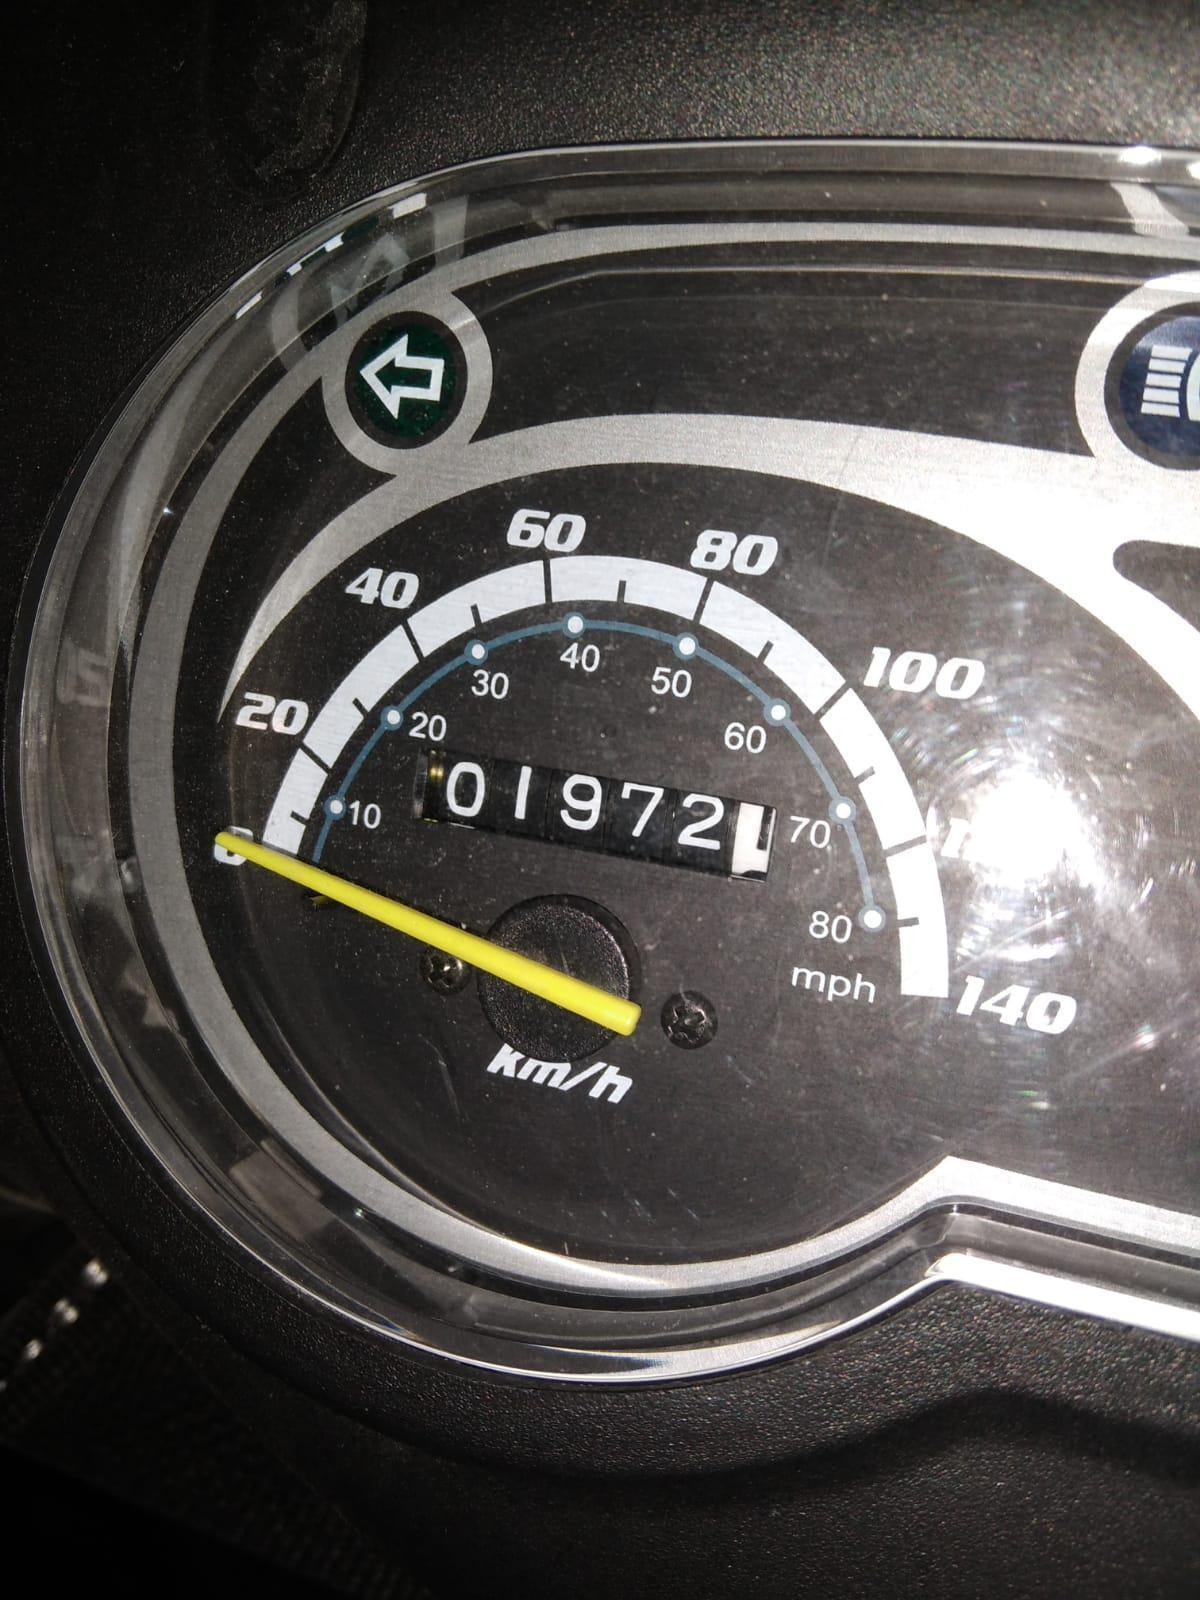0: (444, 757, 487, 820)
1: (504, 760, 534, 825), (749, 797, 776, 853)
2: (674, 787, 725, 855)
7: (616, 775, 666, 842)
9: (558, 769, 604, 833)
odometer: (412, 746, 784, 893)
